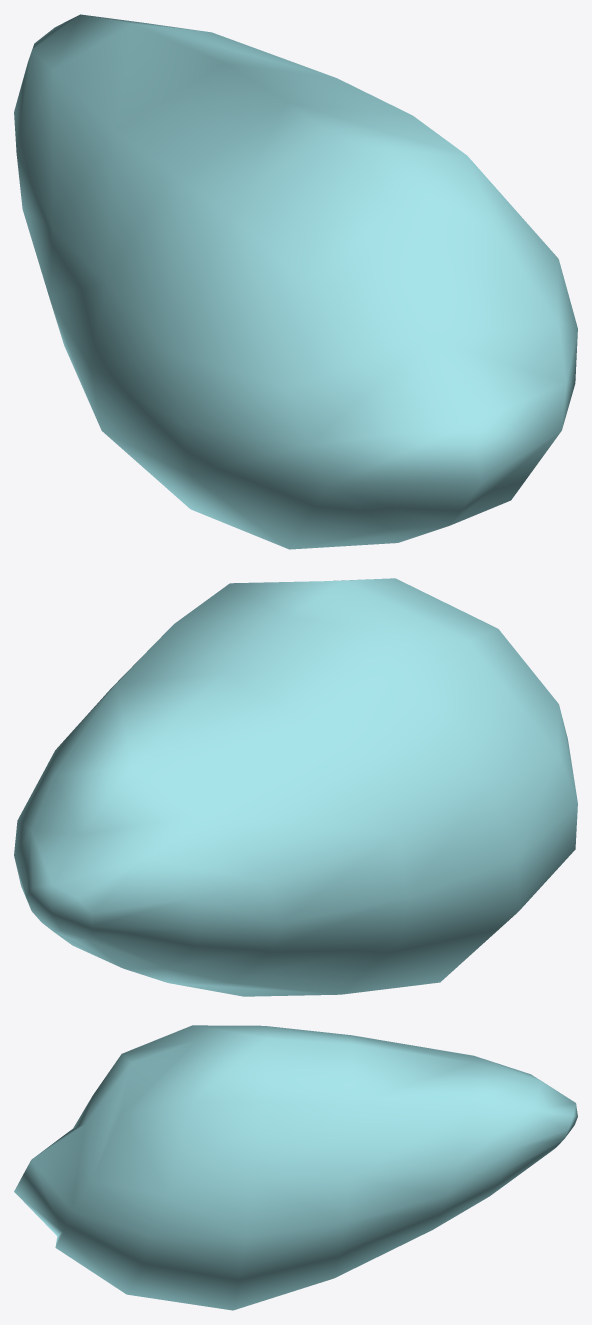
File: Caridid_Exported_TFan.fbx
The picture shows the model from 3 angles, top to bottom: view 1: azimuth 30°, elevation 25°; view 2: azimuth 150°, elevation 25°; view 3: azimuth 270°, elevation 25°; orthographic projection. The views are drawn at different scales.
Visible parts, largest first — view 1: Fan_low.002; view 2: Fan_low.002; view 3: Fan_low.002.
Boxes of the visible parts, box(x1,y1,x2,y2) form: Fan_low.002: box(14, 14, 577, 549); Fan_low.002: box(14, 578, 577, 996); Fan_low.002: box(14, 1025, 577, 1310).
Size of the model in its own units: 0.1581 by 0.1376 by 0.2776.
